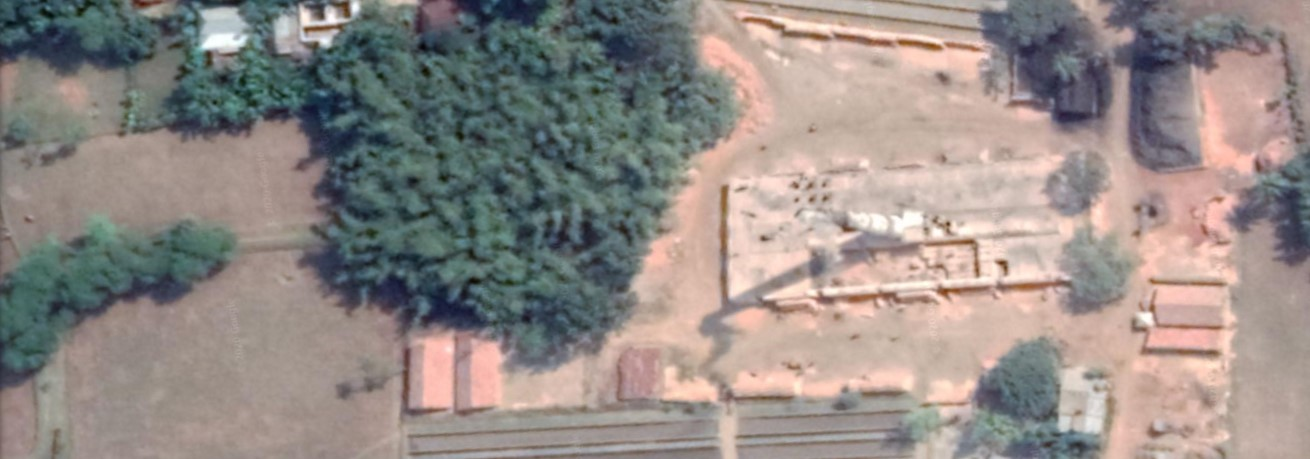kiln: (709, 151, 1045, 297)
